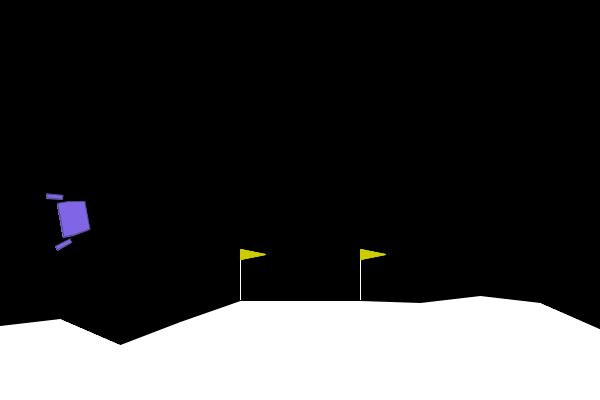lander: (44, 186, 94, 252)
